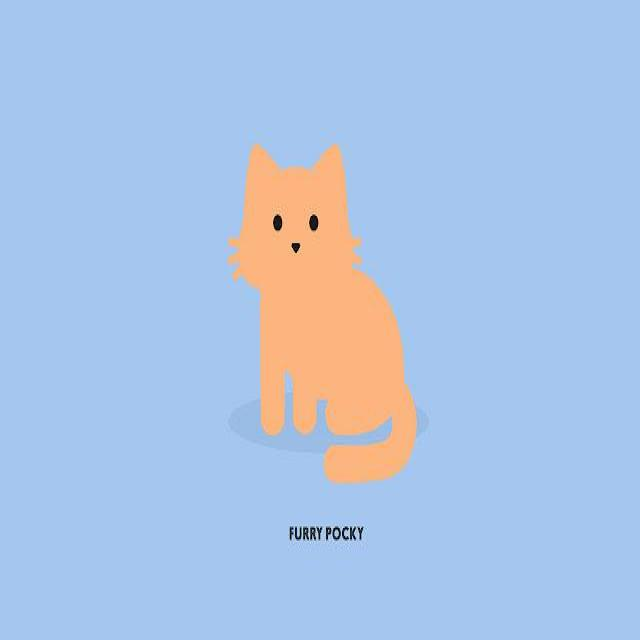cats: (227, 139, 417, 483)
